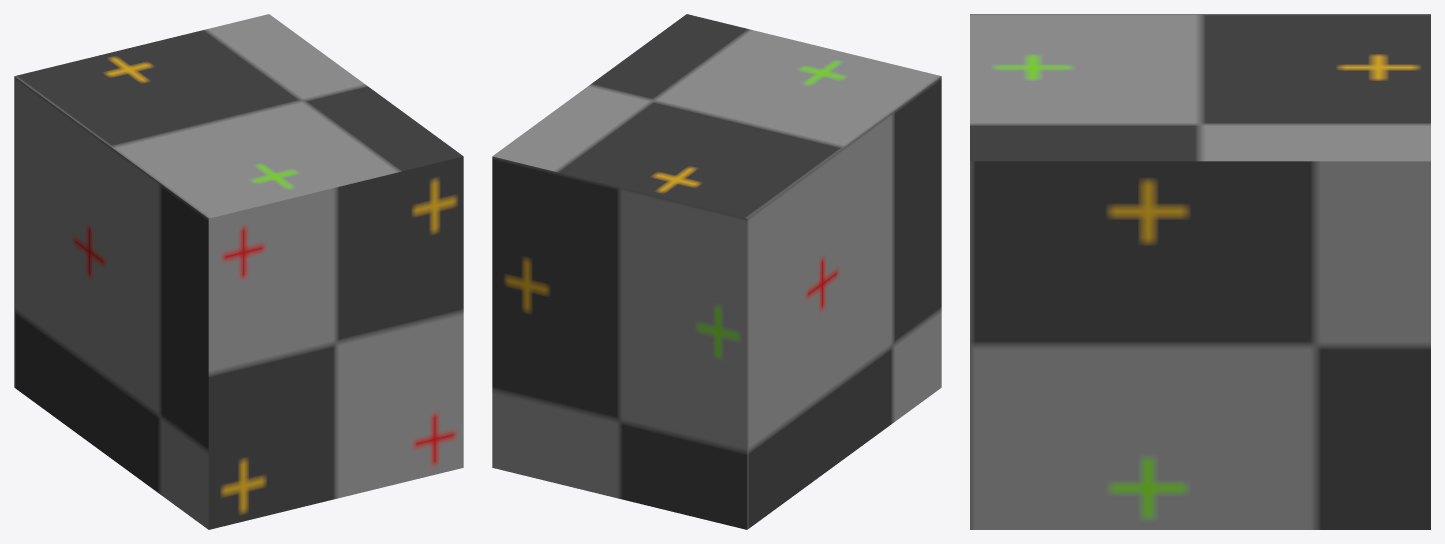
3 views of the same model, side by side, from view 1: azimuth 30°, elevation 25°; view 2: azimuth 150°, elevation 25°; view 3: azimuth 270°, elevation 25° (orthographic). The views are drawn at different scales.
Parts seen in each view (by area): view 1: Cube_095; view 2: Cube_095; view 3: Cube_095.
Part boxes in pixels (<box>): Cube_095: <box>14,14,463,529</box>; Cube_095: <box>492,14,941,529</box>; Cube_095: <box>970,14,1430,529</box>.
Size of the model in its own units: 1.35 by 1.57 by 1.78.
Materials: 1 (1 with a texture image).
